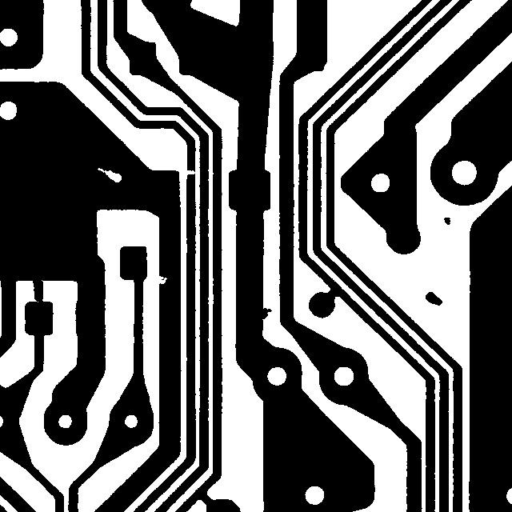copper: (418, 284, 450, 313), (436, 210, 458, 232)
mousebite: (149, 268, 174, 291)
open: (176, 162, 202, 182)
pin-hole: (90, 160, 129, 190)
short: (25, 269, 50, 313)
spur: (250, 300, 279, 326)
